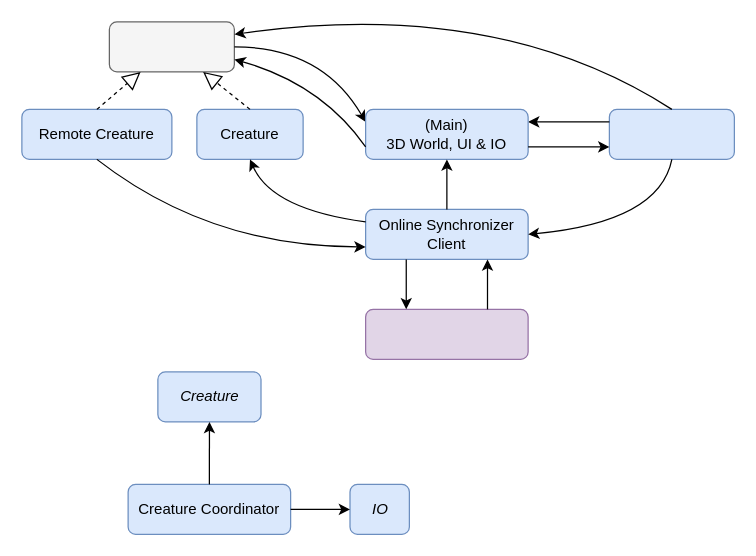
This 756x556 diagram has some shape labels left out. The centre of each missing label's shape, as x and y in pixels:
"<<interface>> Creature" belongs at point 171,46.
"Game Master" belongs at point 671,133.
"Online Synchronizer Server" belongs at point 446,333.
